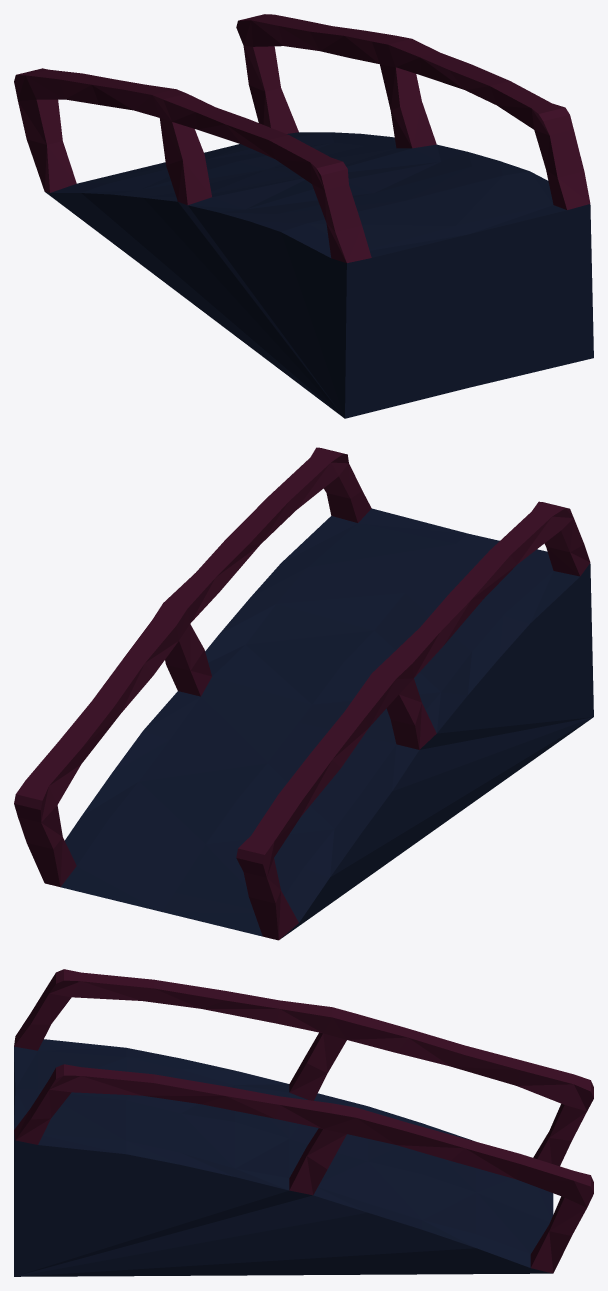
Rendered from obstacle_castle_ramp.FBX.
3 views of the same model, one above another, from view 1: azimuth 30°, elevation 25°; view 2: azimuth 150°, elevation 25°; view 3: azimuth 270°, elevation 25° (orthographic). The views are drawn at different scales.
Parts seen in each view (by area): view 1: castle_ramp; view 2: castle_ramp; view 3: castle_ramp.
Boxes of the visible parts, box(x1,y1,x2,y2) form: castle_ramp: box(14, 14, 593, 418); castle_ramp: box(14, 447, 593, 940); castle_ramp: box(14, 969, 593, 1276).
Bounding box in the file's own units: 4 × 3.52 × 9.2.
